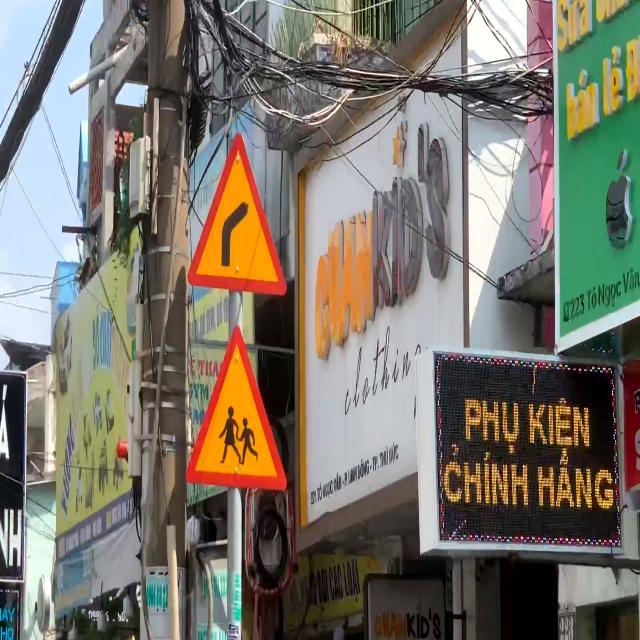W-201b: (187, 132, 292, 293)
W-225: (184, 324, 288, 490)
